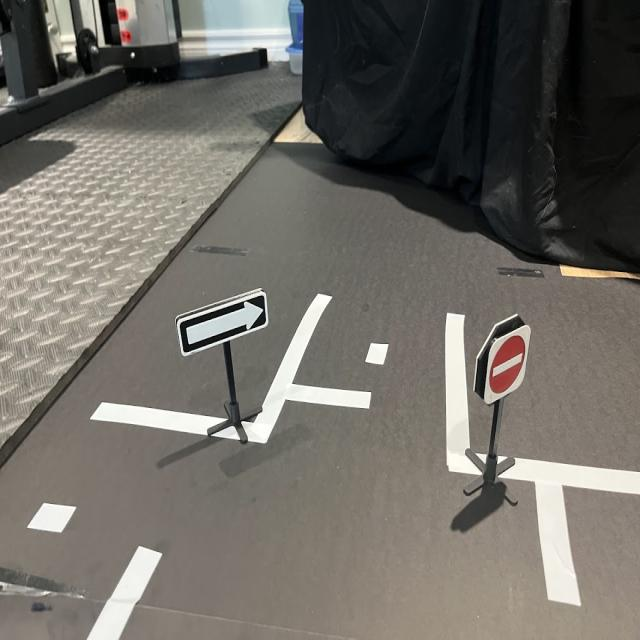sign_noentry: (483, 321, 532, 409)
sign_oneway_right: (176, 284, 272, 361)
